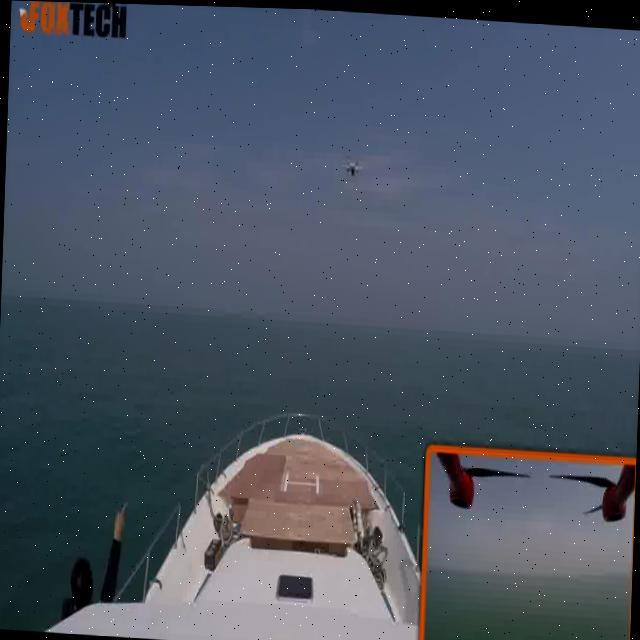drone: (334, 145, 364, 189)
